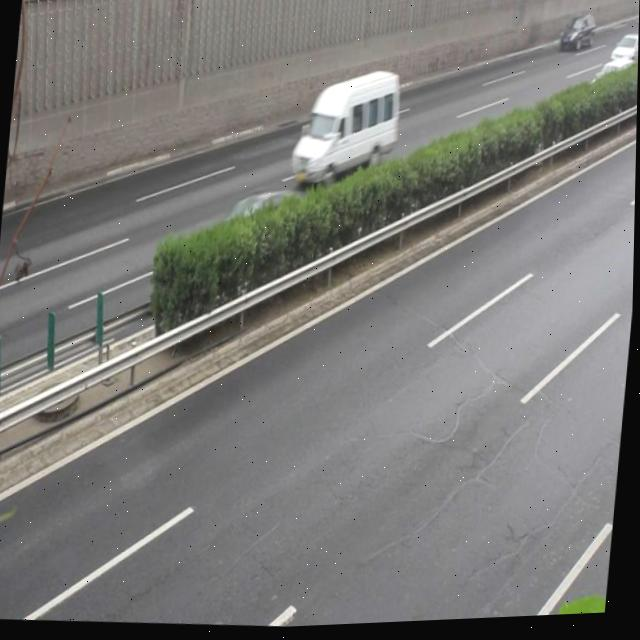car: (199, 185, 298, 282), (584, 60, 639, 117), (556, 15, 596, 63)
truck: (288, 69, 403, 192)
